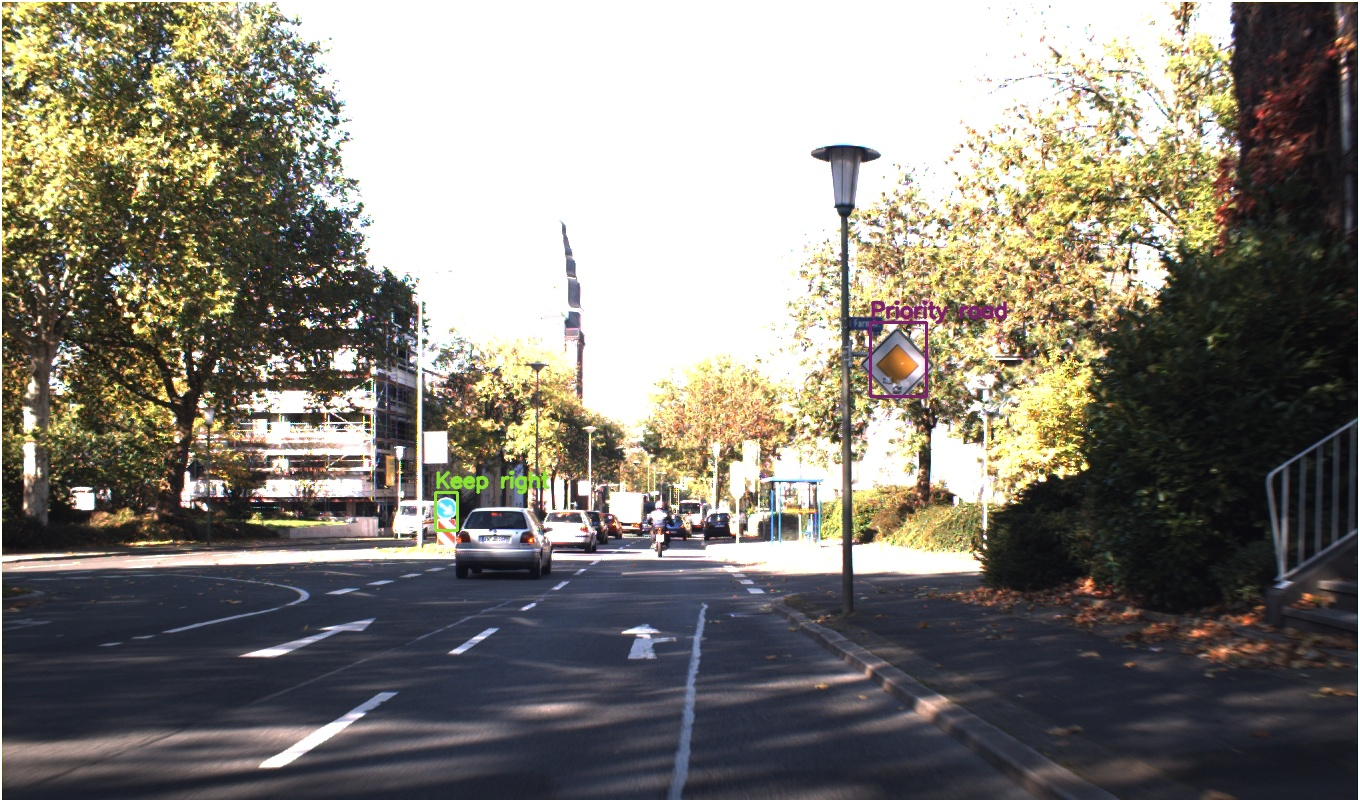General caution: (916, 300, 995, 374)
